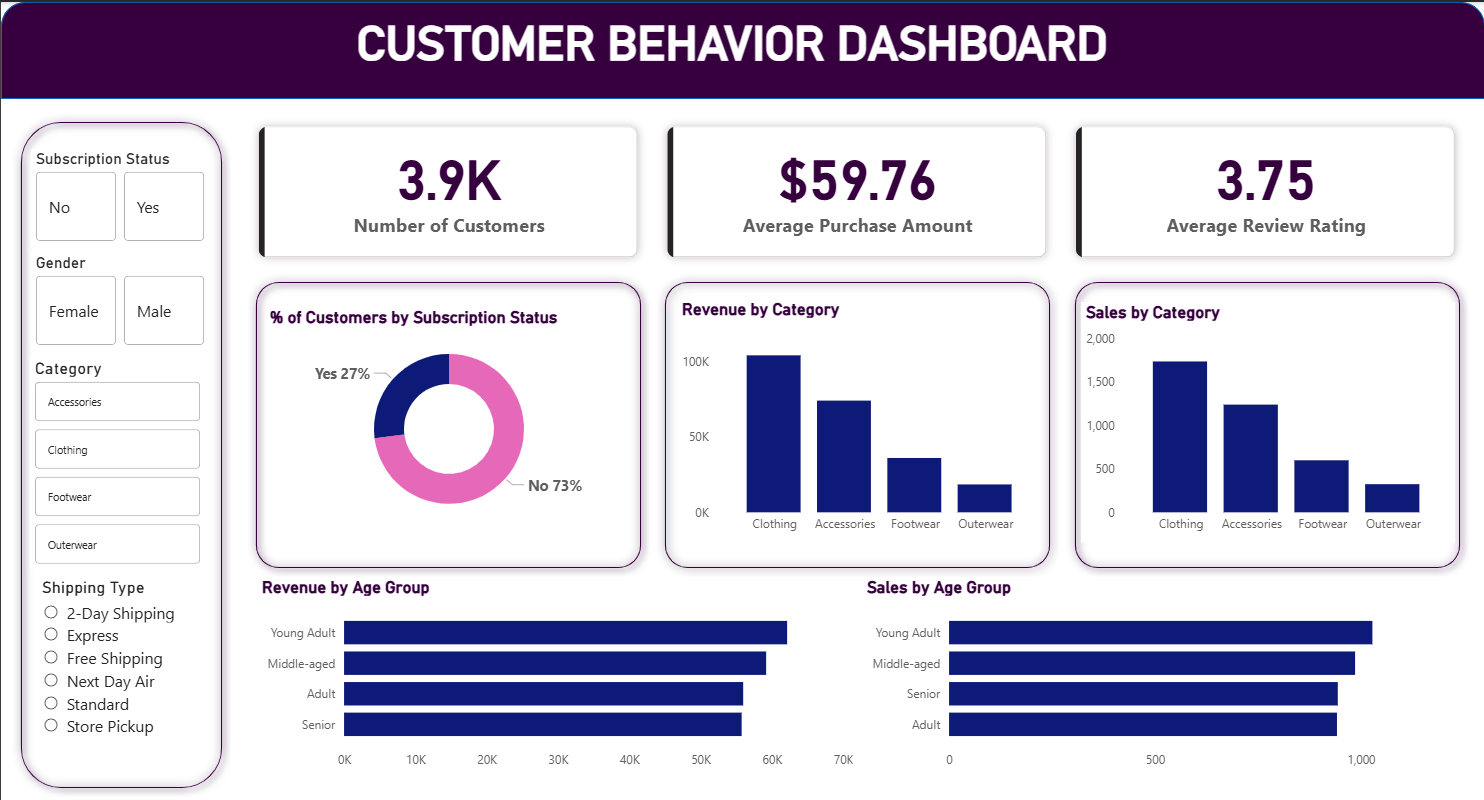

The page's visual inventory and layout, read from the dashboard file:
{"tool":"powerbi","page":{"name":"Page 1","canvas":[1500,820],"ordinal":0},"visuals":[{"type":"cardVisual","fields":{"Data":["public customer.Number of Customers","public customer.Average Purchase Amount","public customer.Average Review Rating"]},"box":[232.5,98,1267.5,188],"z":0},{"type":"shape","box":[0,0,1500,98],"z":1000},{"type":"textbox","title":"Customer Behavior Dashboard","box":[354.8,9.1,790.4,80.9],"z":2000},{"type":"donutChart","title":"% of Customers by Subscription Status","fields":{"Category":["public customer.subscription_status"],"Y":["CountNonNull(public customer.customer_id)"]},"box":[266.8,308.3,372,227.4],"z":3000},{"type":"clusteredColumnChart","title":"Revenue by Category","fields":{"Y":["Sum(public customer.purchase_amount)"],"Category":["public customer.category"]},"box":[683.3,300.2,374,245.6],"z":4000},{"type":"shape","box":[248.7,273.9,407.3,307.3],"z":5000},{"type":"shape","box":[662.1,273.9,407.3,307.3],"z":6000},{"type":"shape","box":[1076.5,273.9,407.3,307.3],"z":7000},{"type":"clusteredColumnChart","title":"Sales by Category","fields":{"Y":["CountNonNull(public customer.customer_id)"],"Category":["public customer.category"]},"box":[1091.6,303.2,378,242.6],"z":8000},{"type":"shape","box":[11.1,112.2,221.4,691.4],"z":9000},{"type":"advancedSlicerVisual","title":"Subscription Status","fields":{"Values":["public customer.subscription_status"]},"box":[30.3,148.6,180.9,98],"z":10000},{"type":"advancedSlicerVisual","title":"Gender","fields":{"Values":["public customer.gender"]},"box":[30.3,253.7,180.9,98],"z":10001},{"type":"advancedSlicerVisual","title":"Category","fields":{"Values":["public customer.category"]},"box":[29.3,359.8,177.9,213.3],"z":10002},{"type":"listSlicer","title":"Shipping Type","fields":{"Values":["public customer.shipping_type"]},"box":[36.4,581.2,170.8,195.1],"z":10003},{"type":"clusteredBarChart","title":"Revenue by Age Group","fields":{"Y":["Sum(public customer.purchase_amount)"],"Category":["public customer.age_group"]},"box":[258.8,581.2,607.5,203.2],"z":10004},{"type":"clusteredBarChart","title":"Sales by Age Group","fields":{"Y":["CountNonNull(public customer.customer_id)"],"Category":["public customer.age_group"]},"box":[870.3,581.2,607.5,203.2],"z":10005}]}

Visuals, with their boxes in screenshot pixels (x1, y1, x2, y2), scaled from the page's 1500x820 canvas onto the 1484x800 screenshot:
cardVisual - public customer.Number of Customers x public customer.Average Purchase Amount: rect(230, 96, 1483, 279)
shape: rect(0, 0, 1483, 96)
"Customer Behavior Dashboard" textbox: rect(351, 9, 1133, 88)
"% of Customers by Subscription Status" donutChart: rect(264, 301, 632, 523)
"Revenue by Category" clusteredColumnChart: rect(676, 293, 1046, 532)
shape: rect(246, 267, 649, 567)
shape: rect(655, 267, 1058, 567)
shape: rect(1065, 267, 1468, 567)
"Sales by Category" clusteredColumnChart: rect(1080, 296, 1454, 532)
shape: rect(11, 109, 230, 784)
"Subscription Status" advancedSlicerVisual: rect(30, 145, 209, 241)
"Gender" advancedSlicerVisual: rect(30, 248, 209, 343)
"Category" advancedSlicerVisual: rect(29, 351, 205, 559)
"Shipping Type" listSlicer: rect(36, 567, 205, 757)
"Revenue by Age Group" clusteredBarChart: rect(256, 567, 857, 765)
"Sales by Age Group" clusteredBarChart: rect(861, 567, 1462, 765)
